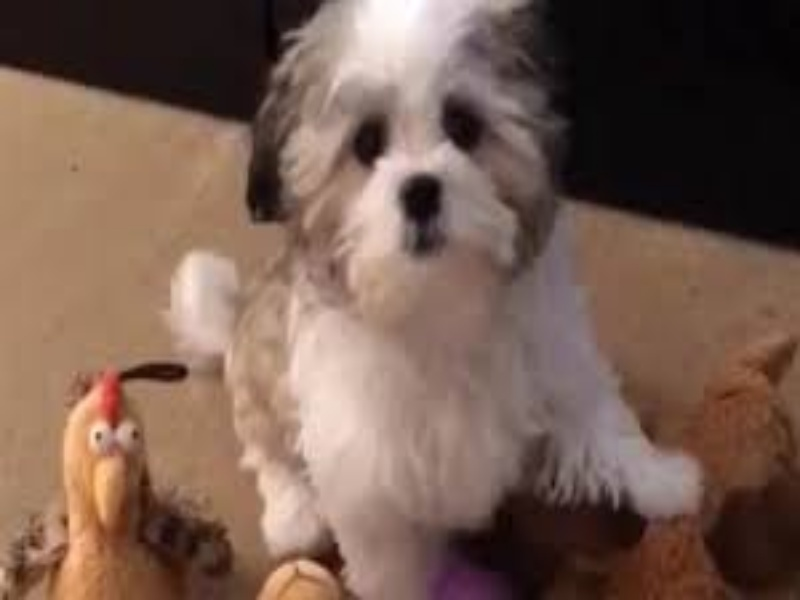dog: (193, 6, 710, 600)
